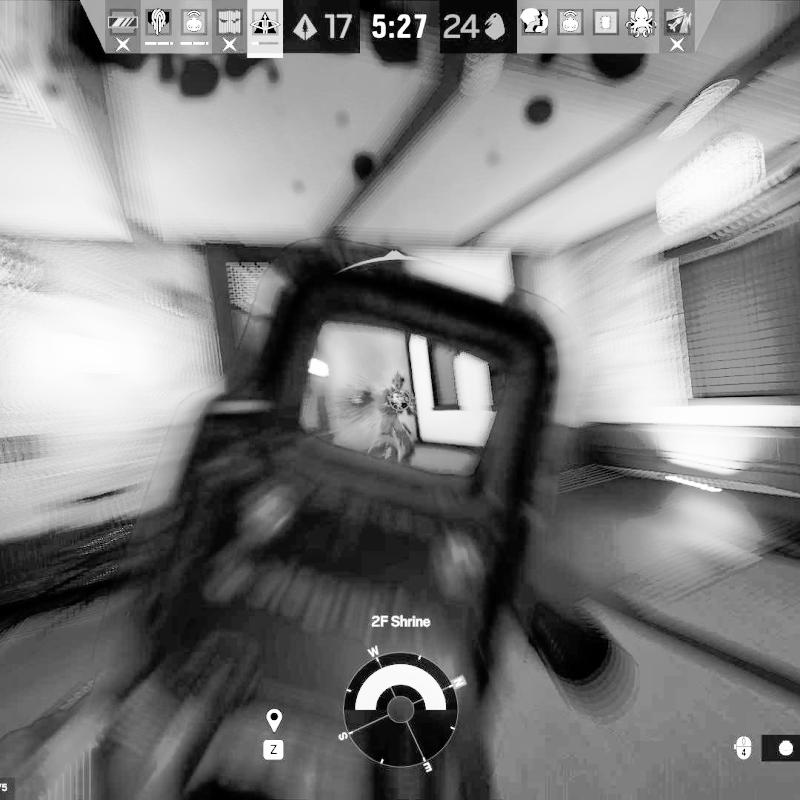Character: (374, 370, 418, 466)
Head: (389, 372, 407, 392)
